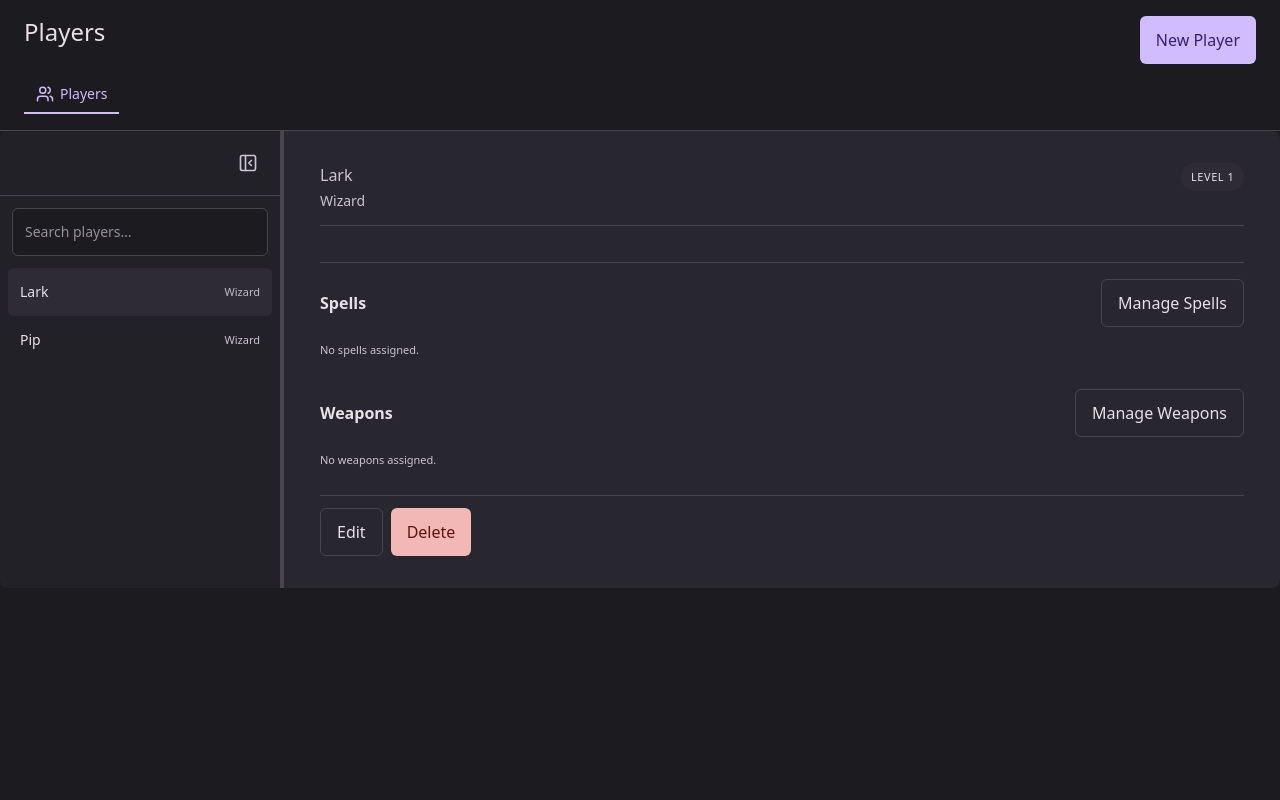
PlayerBrowserPage › does not re-fetch a player detail already cached from a previous visit
Expected: the heading "Lark" is shown, [320, 164, 352, 186]
Click the text "Pip": (30, 340) [20, 330, 41, 350]
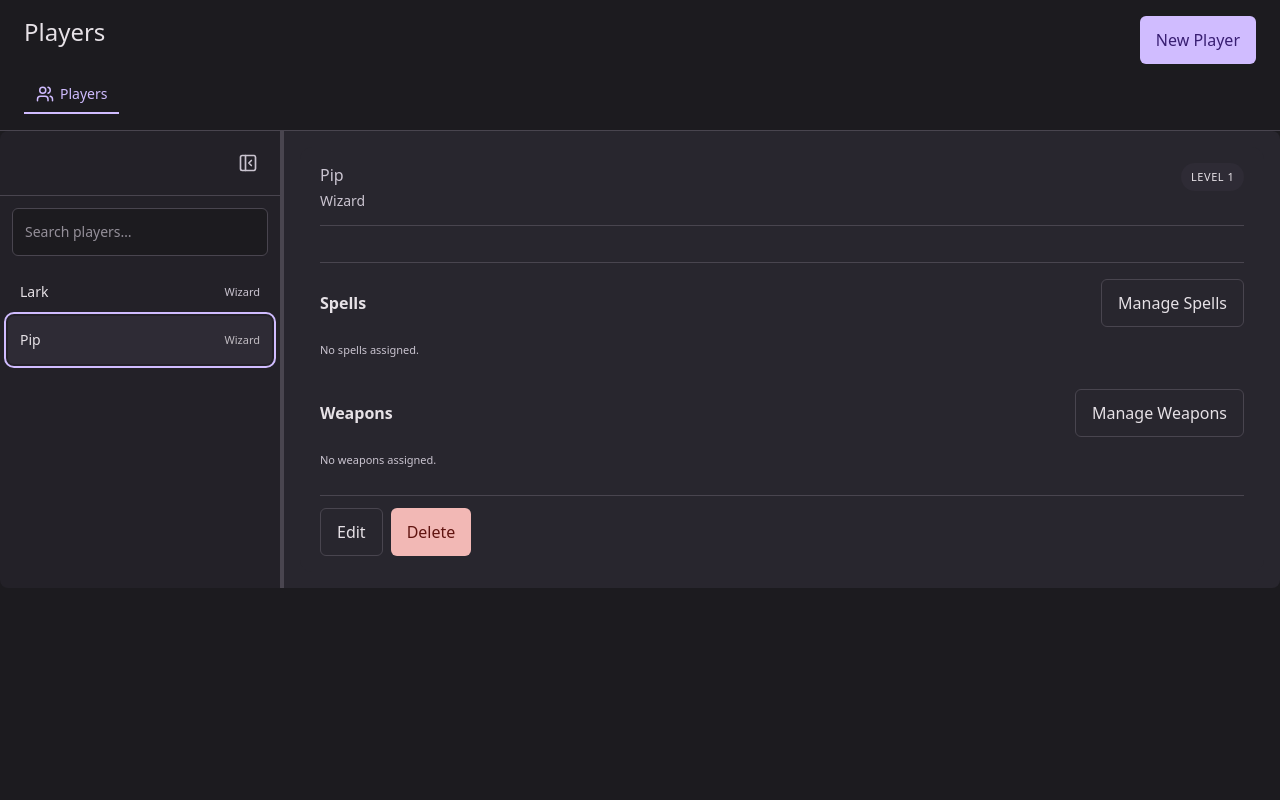
Now the heading "Pip" is shown, box [320, 164, 344, 186]
Click the text "Lark": (34, 292) [20, 282, 48, 302]
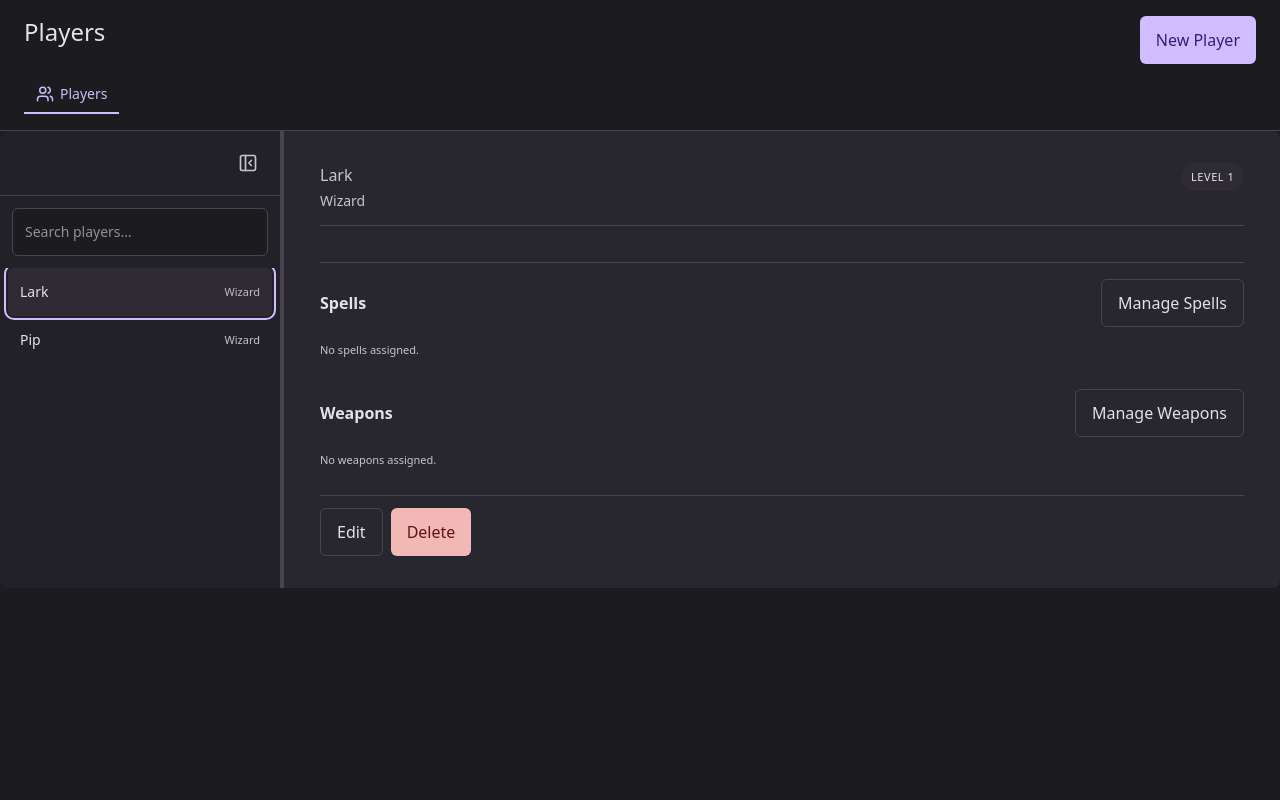
Now the heading "Lark" is shown, box [320, 164, 352, 186]
